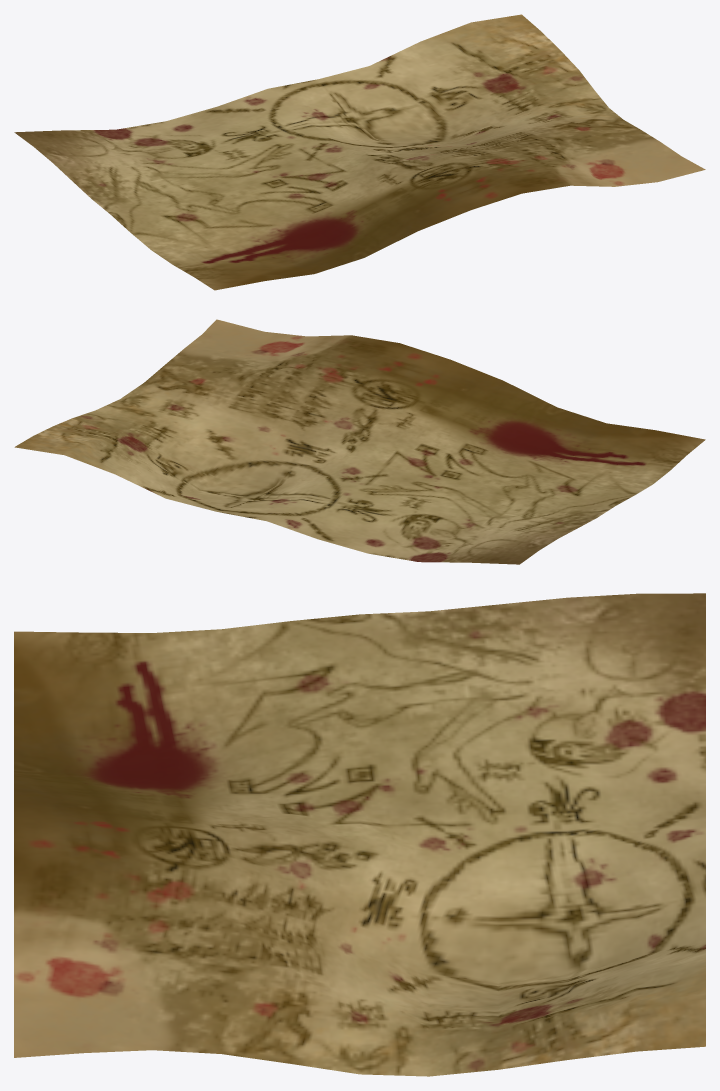
File: Paper_1.fbx
3 renders of one model, top to bottom at view 1: azimuth 30°, elevation 25°; view 2: azimuth 150°, elevation 25°; view 3: azimuth 270°, elevation 25°, orthographic. The views are drawn at different scales.
Visible parts, largest first — view 1: pPlane1; view 2: pPlane1; view 3: pPlane1.
Boxes of the visible parts, <box> form: pPlane1: <box>14,14,705,290</box>; pPlane1: <box>14,319,705,564</box>; pPlane1: <box>14,593,705,1076</box>.
Bounding box in the file's own units: 16.71 × 1.52 × 11.05.
